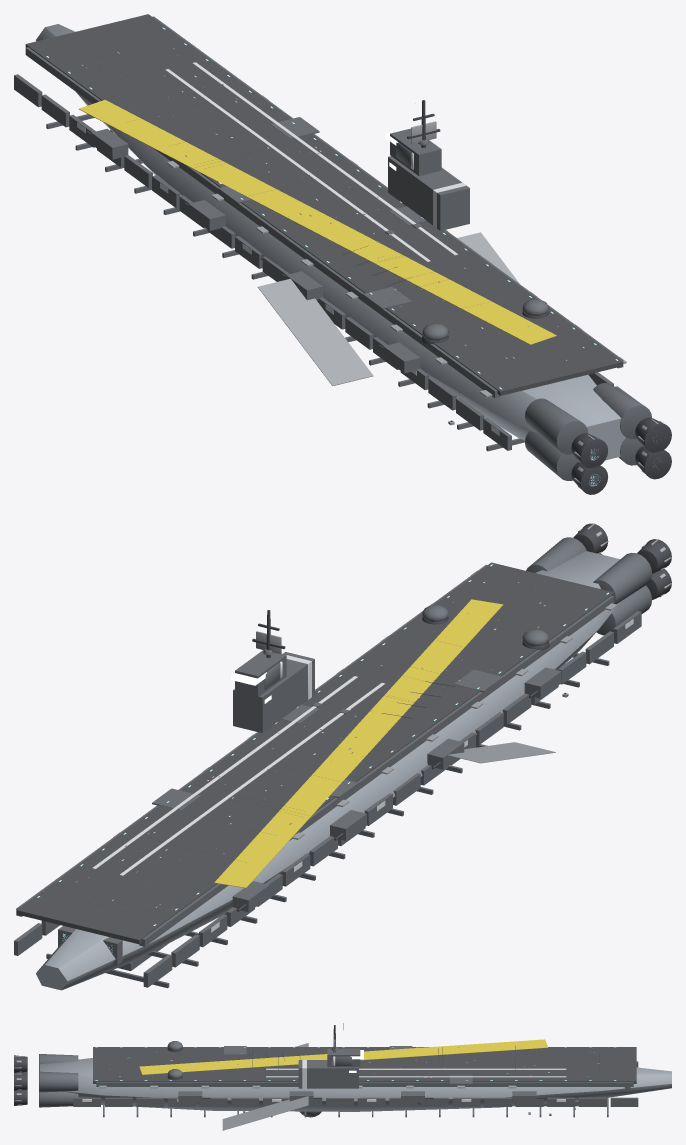
File: capital_leviathan.glb
The picture shows the model from 3 angles, top to bottom: view 1: azimuth 30°, elevation 25°; view 2: azimuth 150°, elevation 25°; view 3: azimuth 270°, elevation 25°; orthographic projection. The views are drawn at different scales.
Visible parts, largest first — view 1: LeviathanHull, SUB_engine_1, SUB_engine_0, SUB_engine_3, SUB_engine_2; view 2: LeviathanHull, SUB_engine_1, SUB_engine_0, SUB_engine_3; view 3: LeviathanHull, SUB_engine_0, SUB_engine_2, SUB_engine_1, SUB_command.
Boxes of the visible parts, x1=… form: LeviathanHull: x1=14, y1=14, x2=639, y2=460; SUB_engine_1: x1=525, y1=398, x2=608, y2=468; SUB_engine_0: x1=593, y1=383, x2=671, y2=452; SUB_engine_3: x1=525, y1=431, x2=607, y2=494; SUB_engine_2: x1=619, y1=434, x2=671, y2=479; LeviathanHull: x1=14, y1=551, x2=641, y2=990; SUB_engine_1: x1=593, y1=539, x2=671, y2=604; SUB_engine_0: x1=526, y1=523, x2=608, y2=572; SUB_engine_3: x1=596, y1=568, x2=671, y2=635; LeviathanHull: x1=39, y1=1023, x2=671, y2=1130; SUB_engine_0: x1=14, y1=1071, x2=78, y2=1092; SUB_engine_2: x1=14, y1=1089, x2=78, y2=1107; SUB_engine_1: x1=14, y1=1054, x2=78, y2=1073; SUB_command: x1=332, y1=1056, x2=352, y2=1065.
Size of the model in its own units: 98 by 87 by 437.
